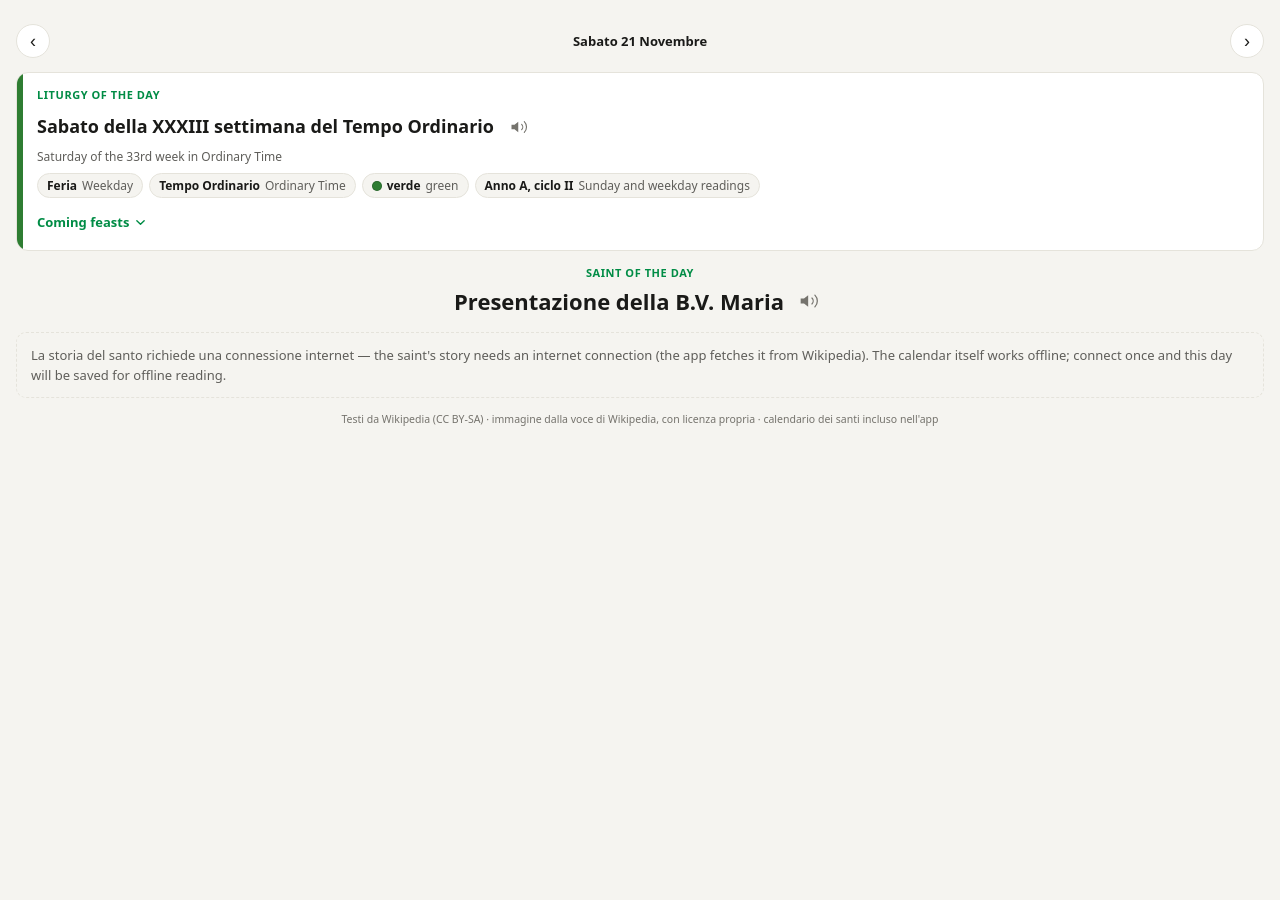
it: SaintsTab liturgy › coming feasts jump the tab to that day
Step 1. Click the button "Coming feasts" → point(92, 222), box [37,206,146,238]
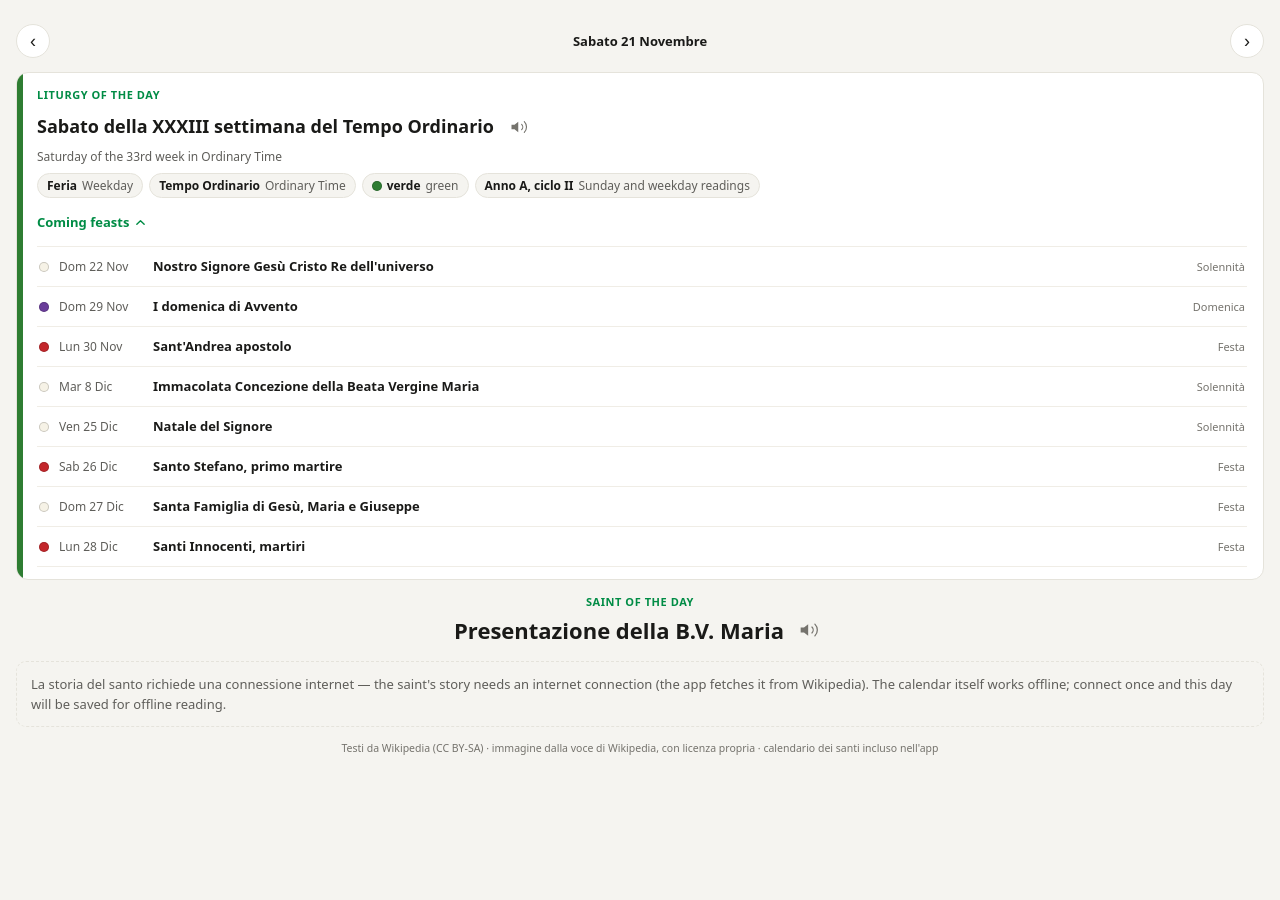
Step 2. Click the button "Immacolata Concezione" → point(86, 386), box [37,367,1247,407]
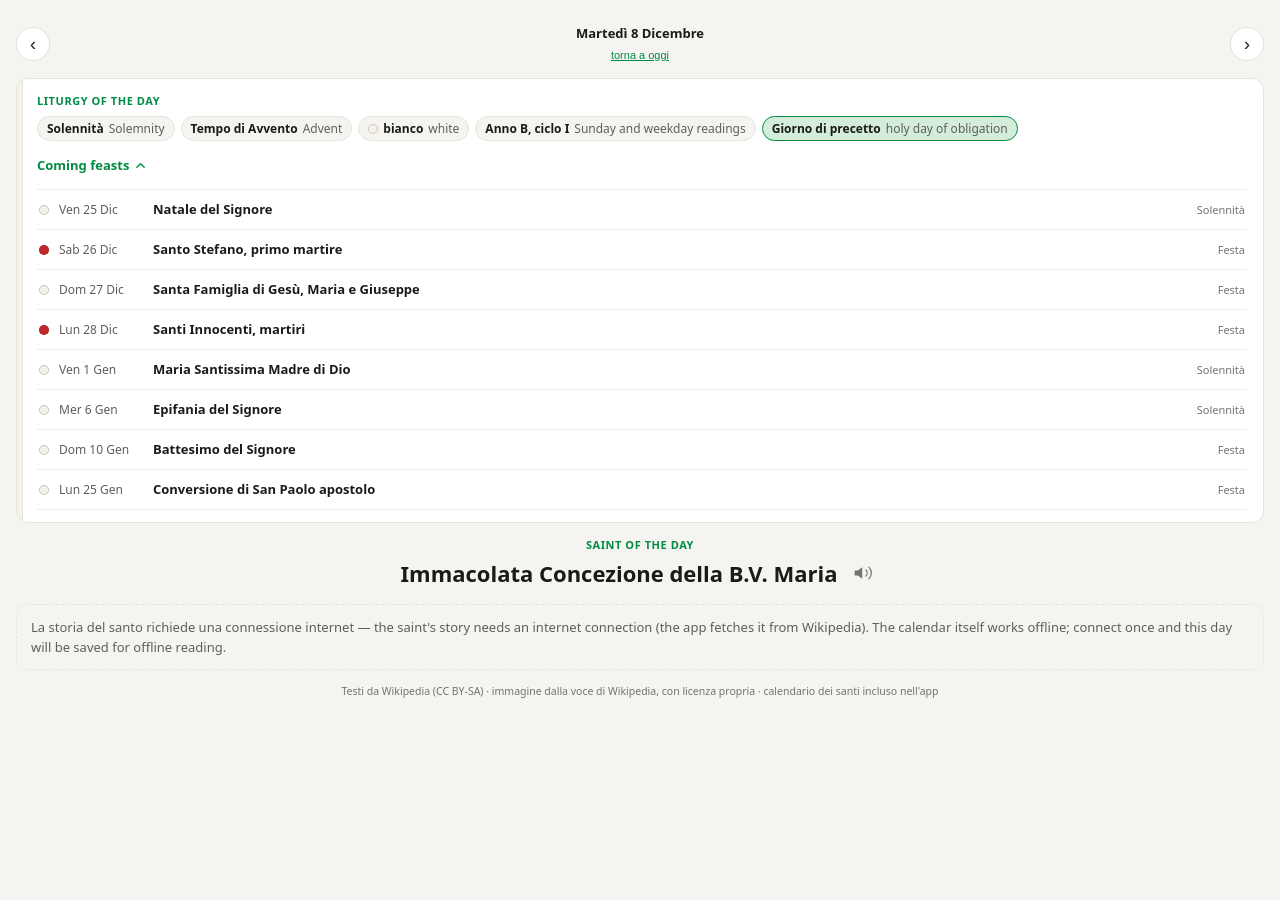
Expected: the text "martedì 8 dicembre" is shown, [576,24,704,42]
Expected: the button "torna a oggi" is shown, [611,47,669,61]
